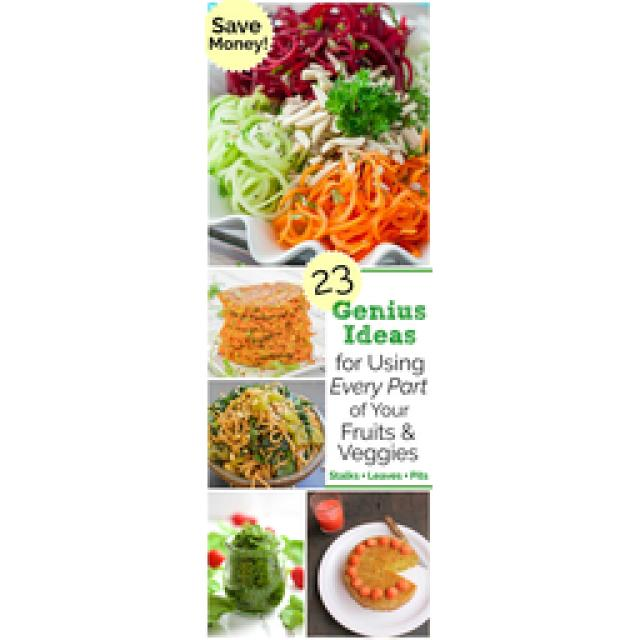food_waste: (208, 2, 428, 260), (208, 282, 322, 485), (208, 512, 302, 625), (345, 540, 415, 608)
